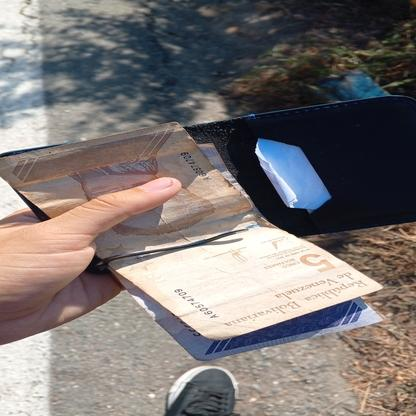five-back-vef: (0, 122, 382, 340)
